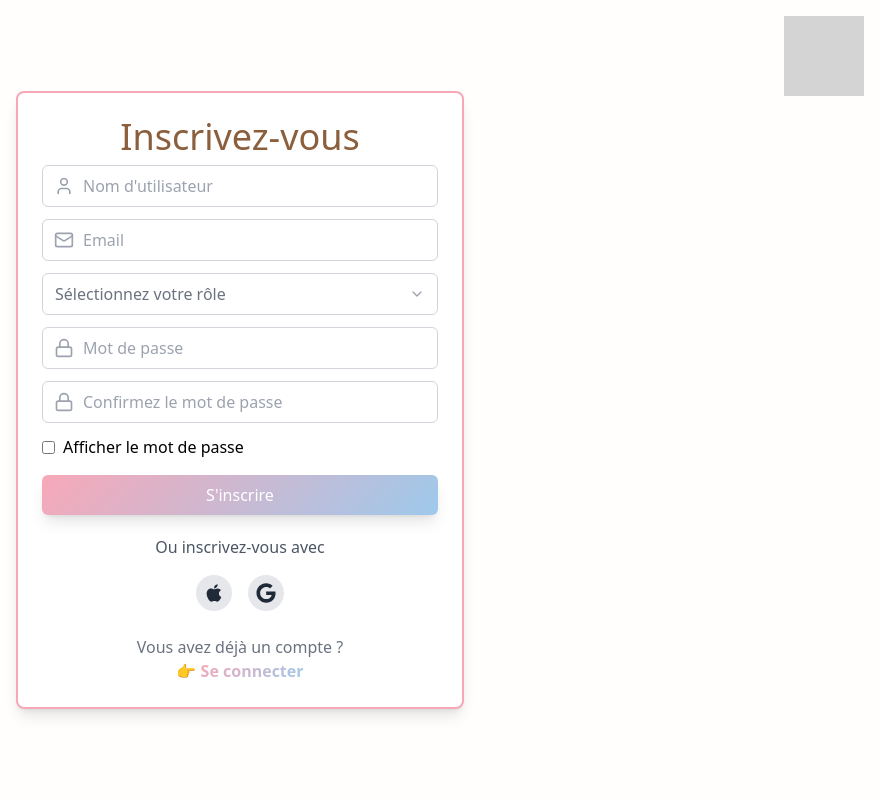
Scenario: Register Component › displays validation error for password too short
Type "123" into the password field with placeholder "Mot de passe".
click(240, 348); type("123")  # box [42,327,438,369]
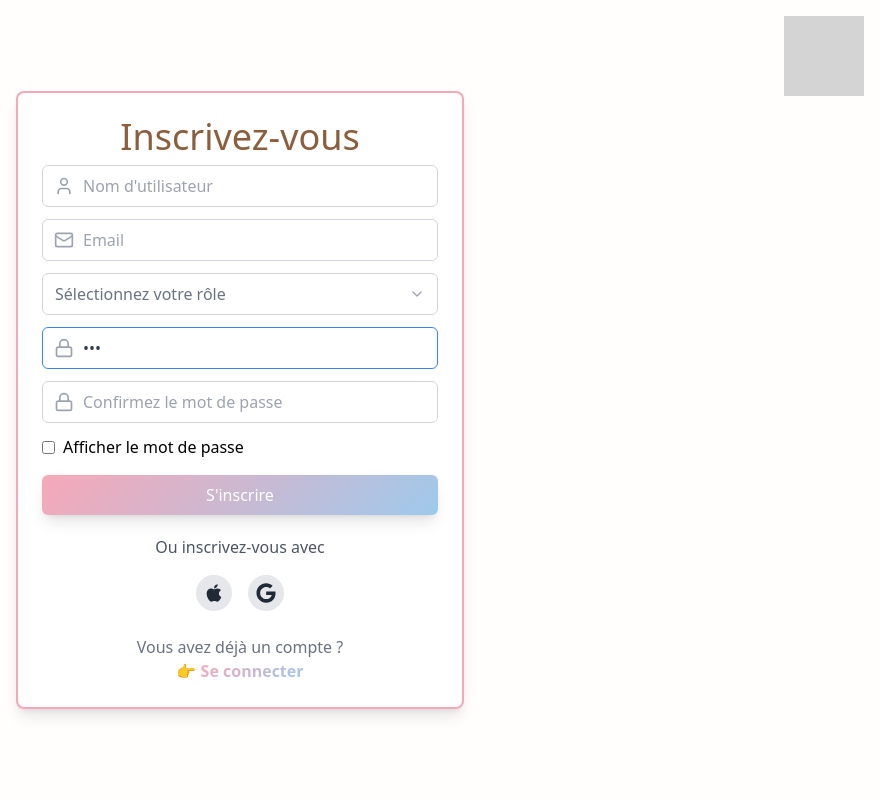
Click the button "S'inscrire".
click(240, 495)  # box [42,475,438,515]
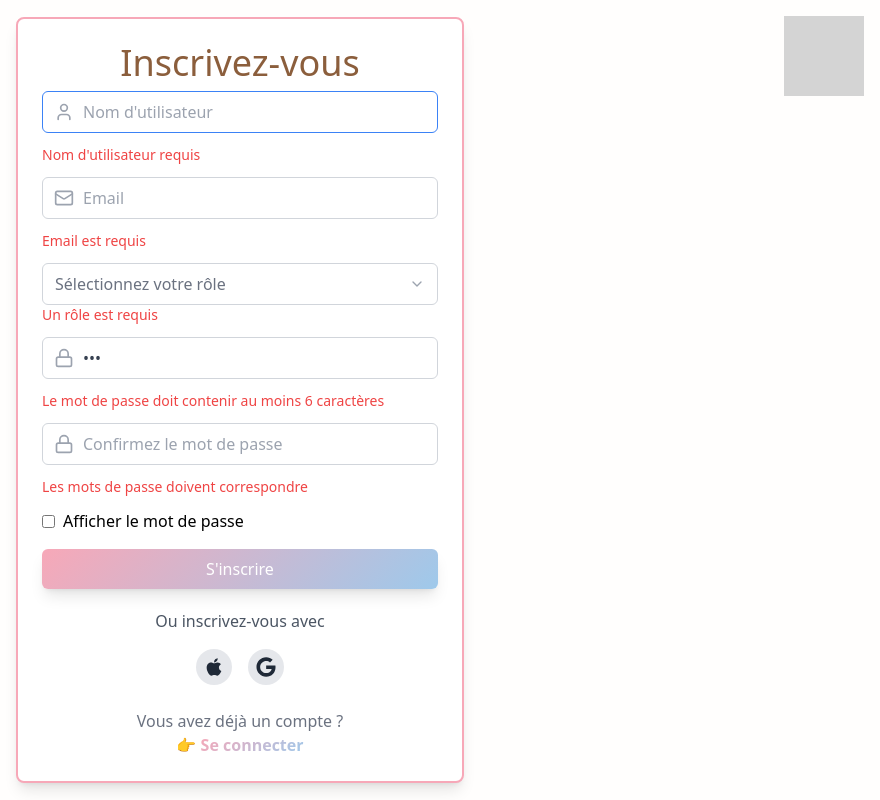
Expected: the text "Le mot de passe doit contenir au moins 6 caractères" is shown, [42,391,438,411]
